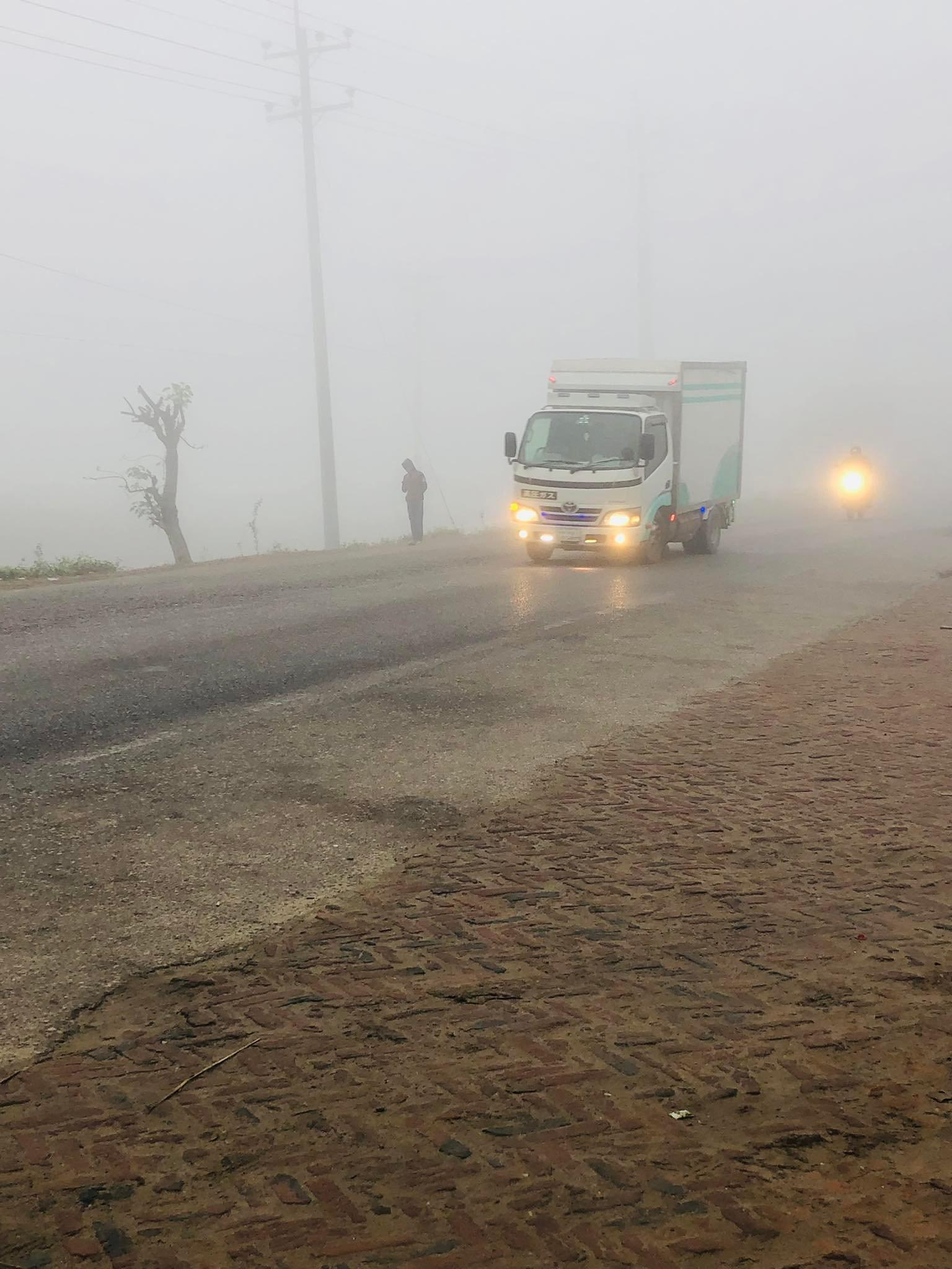Bike: (829, 439, 888, 526)
Truck: (486, 325, 779, 573)
